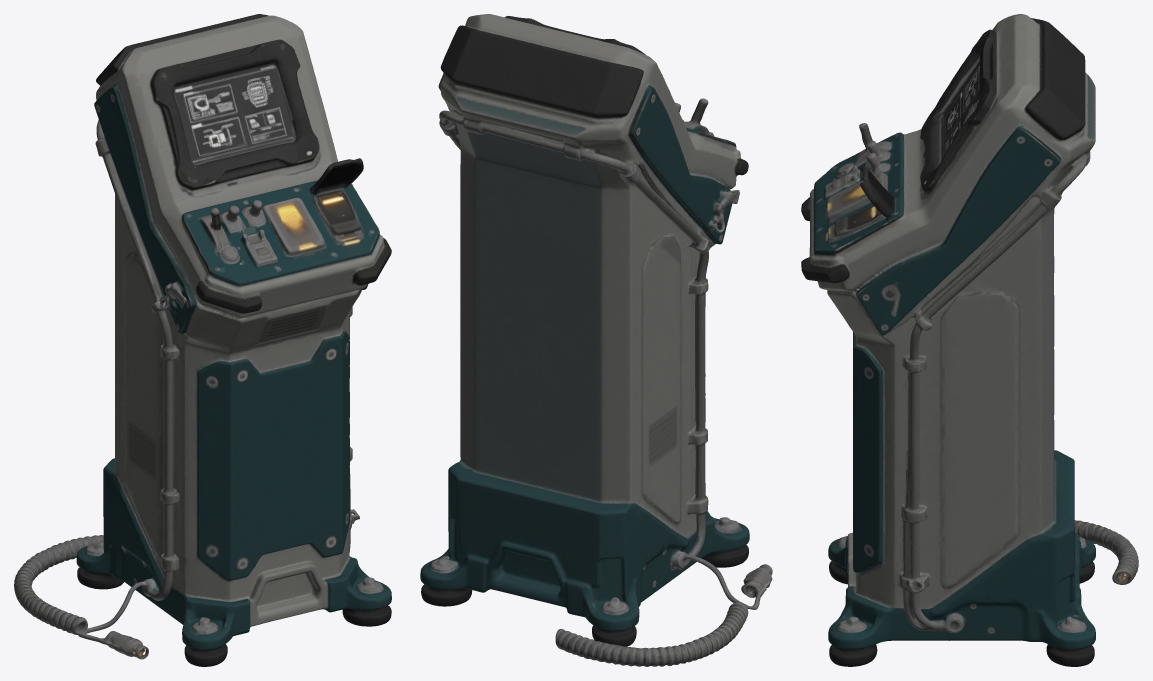
Rendered from Meshy_AI_Industrial_Control_Co_1023091223_texture.glb.
3 renders of one model, left to right at view 1: azimuth 30°, elevation 25°; view 2: azimuth 150°, elevation 25°; view 3: azimuth 270°, elevation 25°, orthographic. The views are drawn at different scales.
Bounding box in the file's own units: 0.9999 × 1.9 × 1.02.
Materials: 1 (1 with a texture image).
